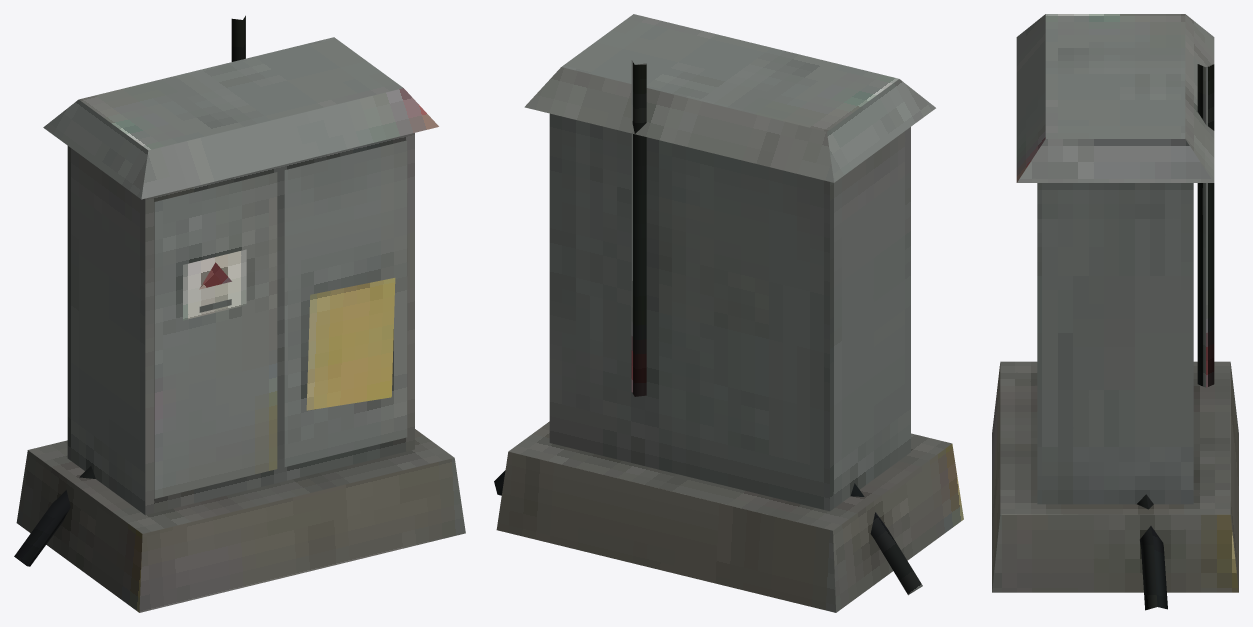
File: pole_junction_box.glb
3 renders of one model, left to right at view 1: azimuth 30°, elevation 25°; view 2: azimuth 150°, elevation 25°; view 3: azimuth 270°, elevation 25°, orthographic. The views are drawn at different scales.
Parts seen in each view (by area): view 1: pole_junction_box; view 2: pole_junction_box; view 3: pole_junction_box.
Boxes of the visible parts, bbox=[...] form: pole_junction_box: bbox=[14, 15, 465, 612]; pole_junction_box: bbox=[494, 14, 963, 612]; pole_junction_box: bbox=[992, 14, 1238, 610].
Size of the model in its own units: 5.81 by 6.39 by 3.
Materials: 1 (1 with a texture image).
